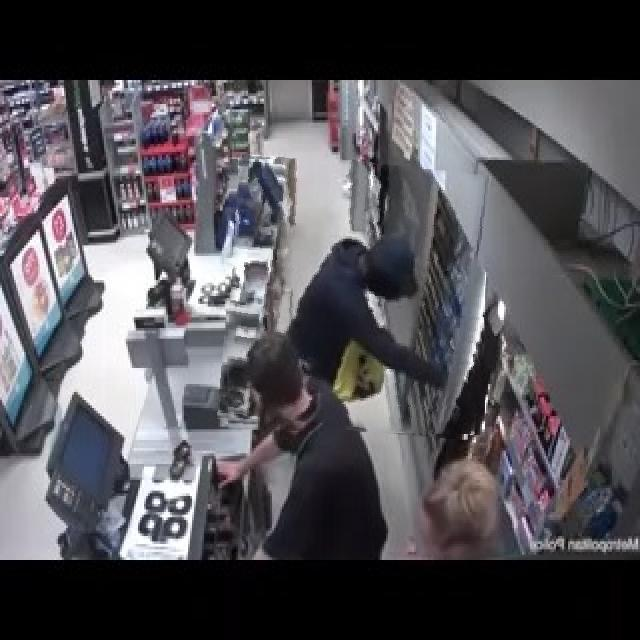Shoplifting: (222, 159, 485, 435)
